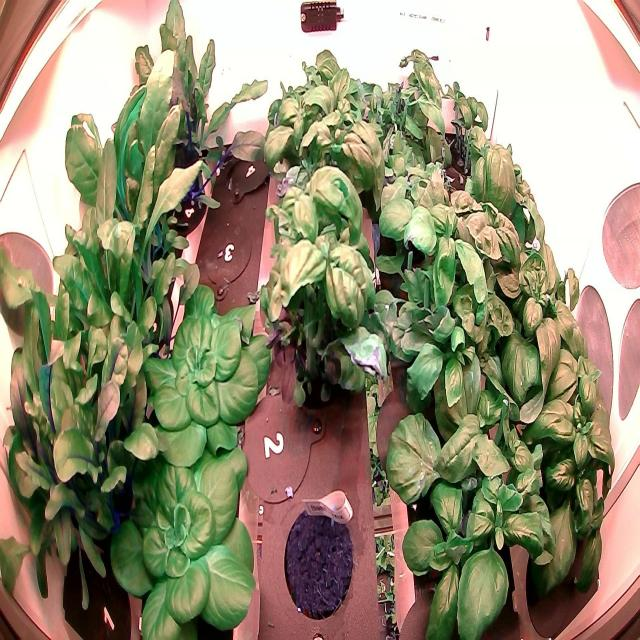empty_pod: (196, 210, 258, 303), (221, 134, 273, 203)
pod: (282, 498, 356, 624)
young: (108, 439, 258, 640), (135, 275, 274, 475)
